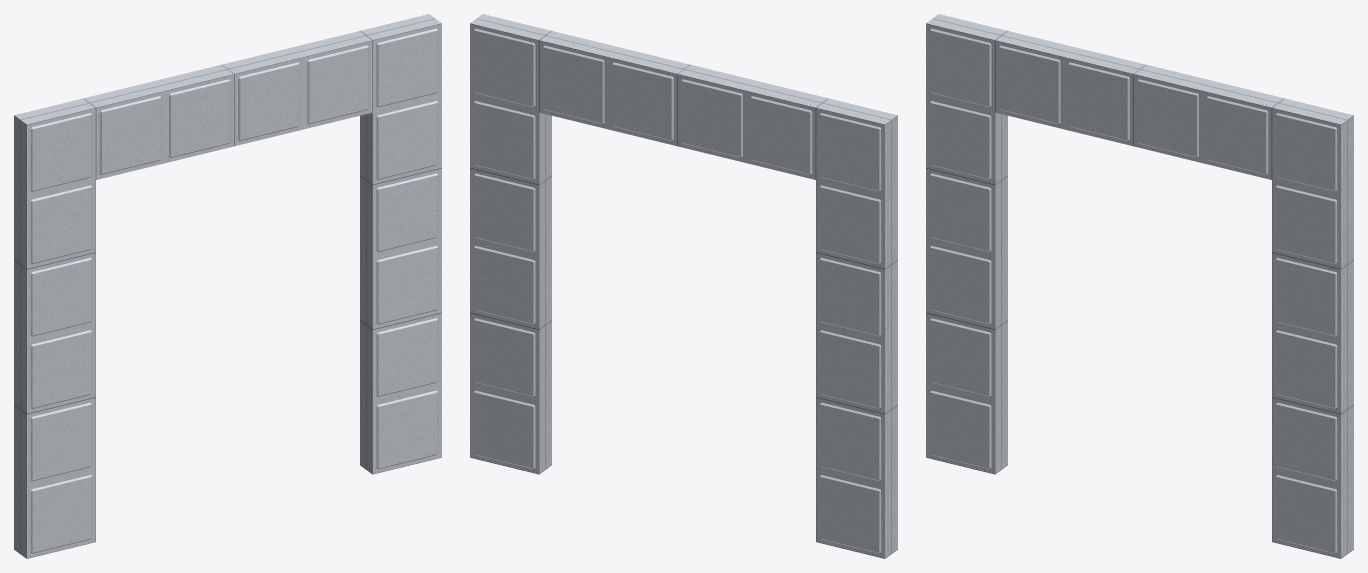
File: Kit_Steel_WallDoor.fbx
The picture shows the model from 3 angles, left to right: view 1: azimuth 30°, elevation 25°; view 2: azimuth 150°, elevation 25°; view 3: azimuth 330°, elevation 25°; orthographic projection.
Visible parts, largest first — view 1: Kit_Steel_WallDoor_LOD0; view 2: Kit_Steel_WallDoor_LOD0; view 3: Kit_Steel_WallDoor_LOD0.
Boxes of the visible parts, <box> form: Kit_Steel_WallDoor_LOD0: <box>14,14,441,558</box>; Kit_Steel_WallDoor_LOD0: <box>470,14,897,558</box>; Kit_Steel_WallDoor_LOD0: <box>926,14,1353,558</box>.
Size of what is drawn, in the model's own units: 3 by 3 by 0.18.
